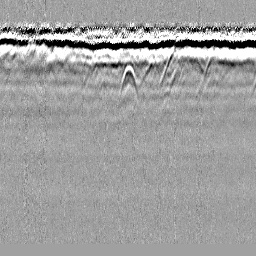cavity: (117, 63, 139, 99)
